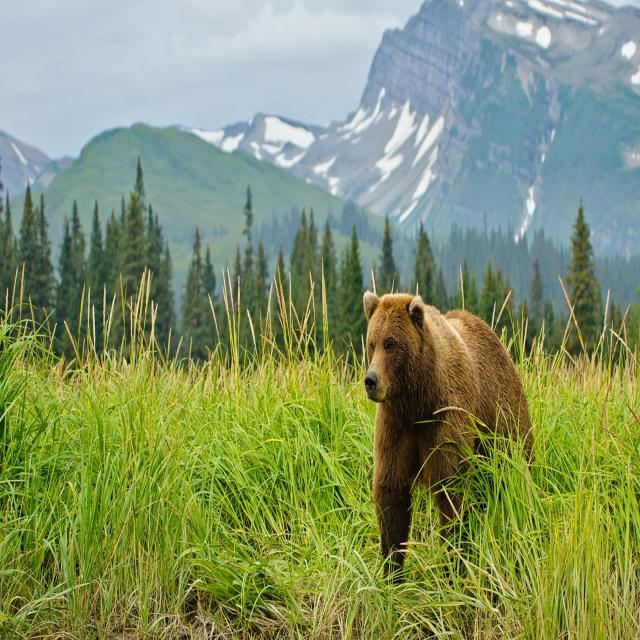Bear: (361, 293, 536, 570)
